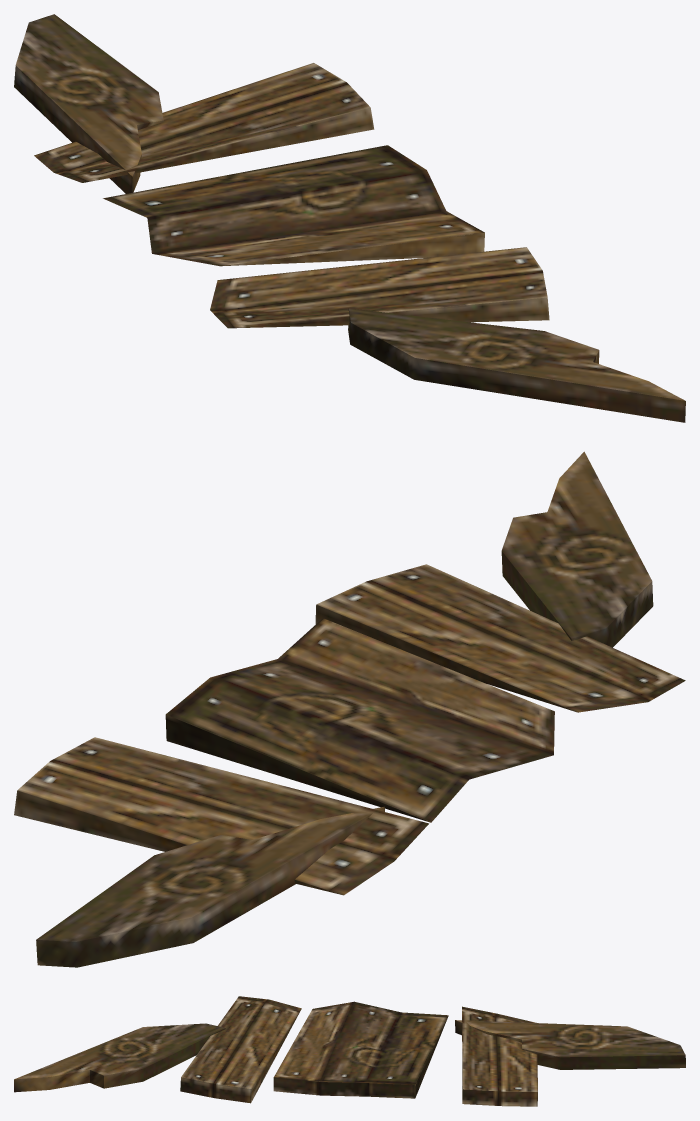
The model's file is 7001_Item_wujian_15.FBX.
3 renders of one model, top to bottom at view 1: azimuth 30°, elevation 25°; view 2: azimuth 150°, elevation 25°; view 3: azimuth 270°, elevation 25°, orthographic. The views are drawn at different scales.
Visible parts, largest first — view 1: 7001_Item_wujian_15; view 2: 7001_Item_wujian_15; view 3: 7001_Item_wujian_15.
Boxes of the visible parts, x1,y1,x2,y2 form: 7001_Item_wujian_15: (14,14,685,422); 7001_Item_wujian_15: (14,451,685,967); 7001_Item_wujian_15: (14,996,685,1106).
Bounding box in the file's own units: 62.33 × 5.87 × 177.
